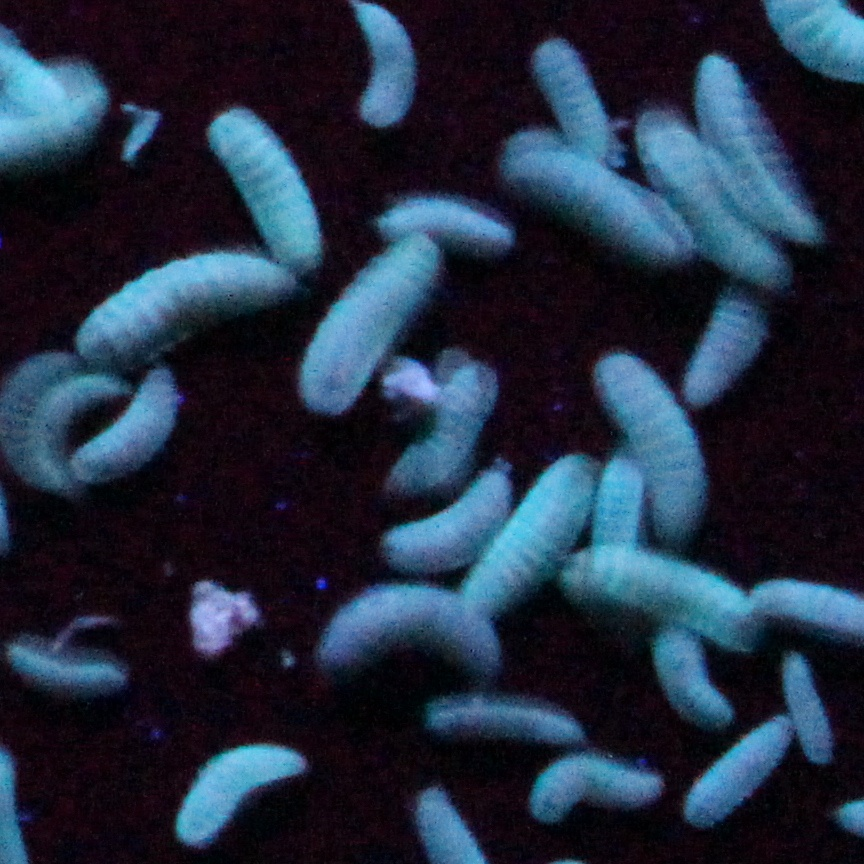larve: (451, 455, 602, 618), (68, 254, 310, 350), (591, 355, 718, 533), (298, 243, 432, 410), (500, 137, 684, 257), (637, 106, 768, 272), (702, 55, 816, 241), (202, 100, 324, 270), (7, 368, 135, 485), (573, 546, 744, 632), (178, 728, 301, 841), (689, 698, 785, 828), (392, 365, 488, 492), (315, 595, 496, 657), (400, 465, 502, 572), (74, 374, 169, 483), (523, 31, 609, 146), (691, 285, 779, 396), (648, 618, 730, 721), (533, 753, 661, 818), (7, 634, 125, 696), (374, 191, 508, 245), (418, 698, 586, 741), (773, 649, 830, 760)
